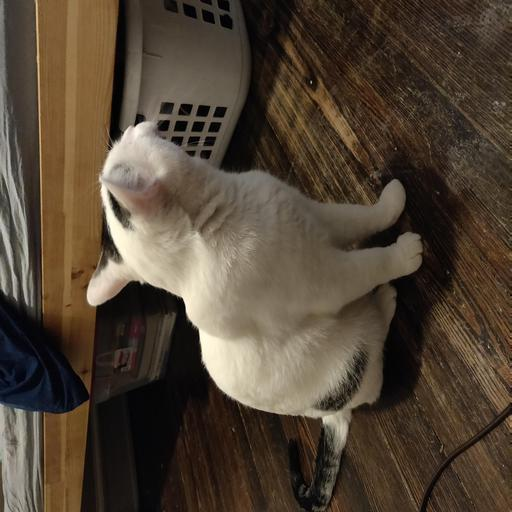cat: (96, 80, 424, 408)
